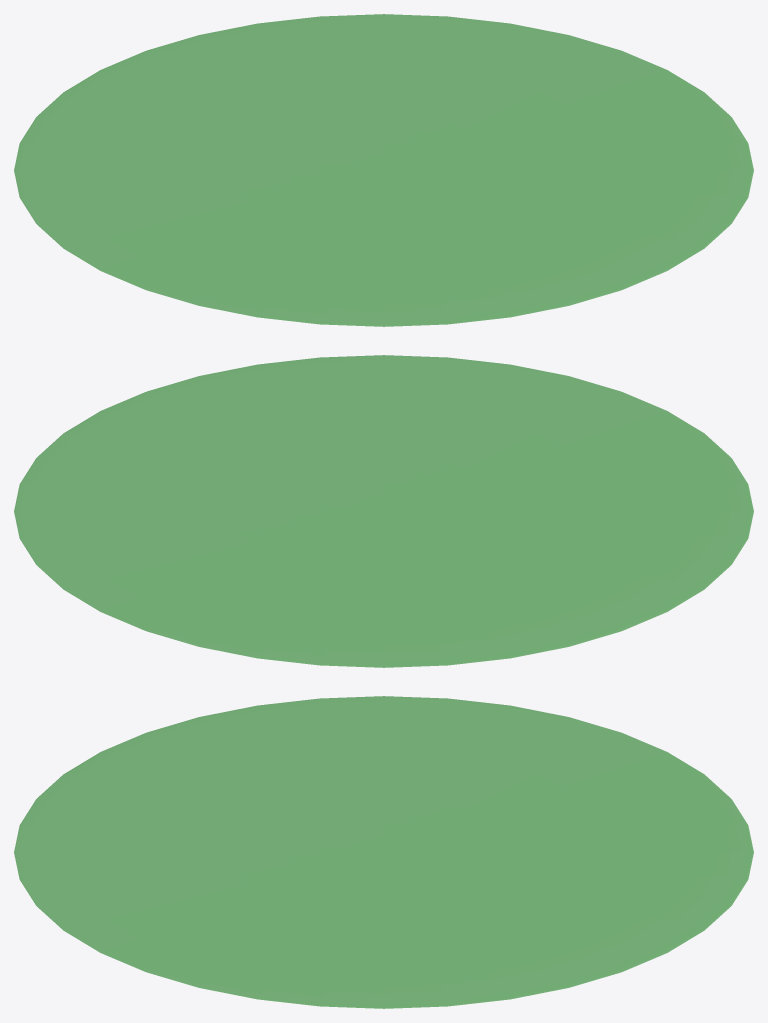
Rendered from bola.glb.
3 views of the same model, one above another, from view 1: azimuth 30°, elevation 25°; view 2: azimuth 150°, elevation 25°; view 3: azimuth 270°, elevation 25° (orthographic).
Visible parts, largest first — view 1: Mesh_Mesh_head_geo.001_lambert2SG.001; view 2: Mesh_Mesh_head_geo.001_lambert2SG.001; view 3: Mesh_Mesh_head_geo.001_lambert2SG.001.
Part boxes in pixels (x1,y1,x2,y2): Mesh_Mesh_head_geo.001_lambert2SG.001: (14, 14, 753, 326); Mesh_Mesh_head_geo.001_lambert2SG.001: (14, 355, 753, 667); Mesh_Mesh_head_geo.001_lambert2SG.001: (14, 696, 753, 1008).
Size of the model in its own units: 5 by 0.01 by 5.
